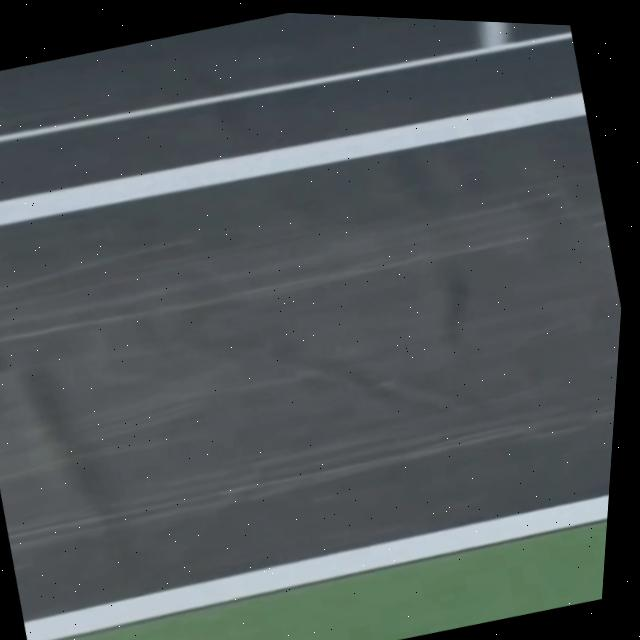center: (0, 91, 586, 223)
right: (23, 493, 609, 640)
